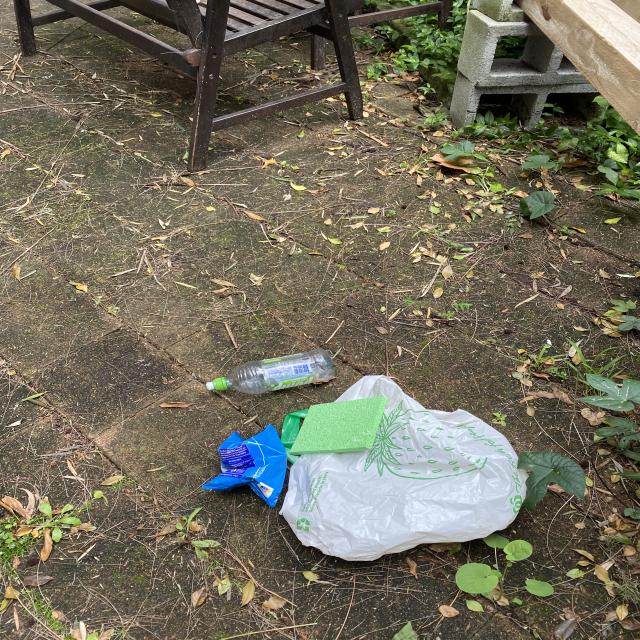bag: (282, 398, 530, 562), (202, 423, 286, 508)
bottle: (206, 349, 336, 396)
sponge: (290, 396, 387, 455)
